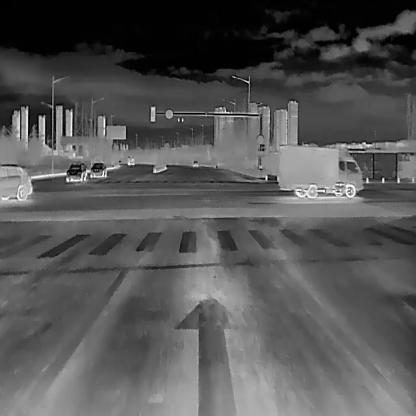car: (0, 163, 32, 199), (64, 161, 86, 181), (88, 161, 106, 177), (191, 158, 198, 166)
truck: (276, 144, 362, 197), (126, 154, 134, 165)
